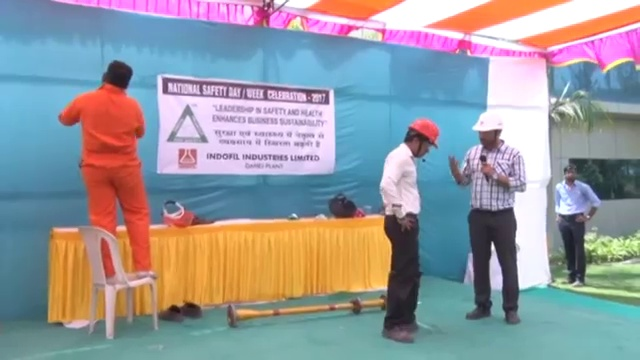helmet: (408, 117, 441, 150), (472, 110, 507, 132)
helmet_off: (101, 59, 133, 90), (561, 163, 578, 184)
helmet_on: (401, 119, 441, 161), (473, 111, 507, 152)
person: (54, 60, 161, 280), (448, 111, 529, 328), (374, 117, 442, 348), (550, 163, 603, 288)
